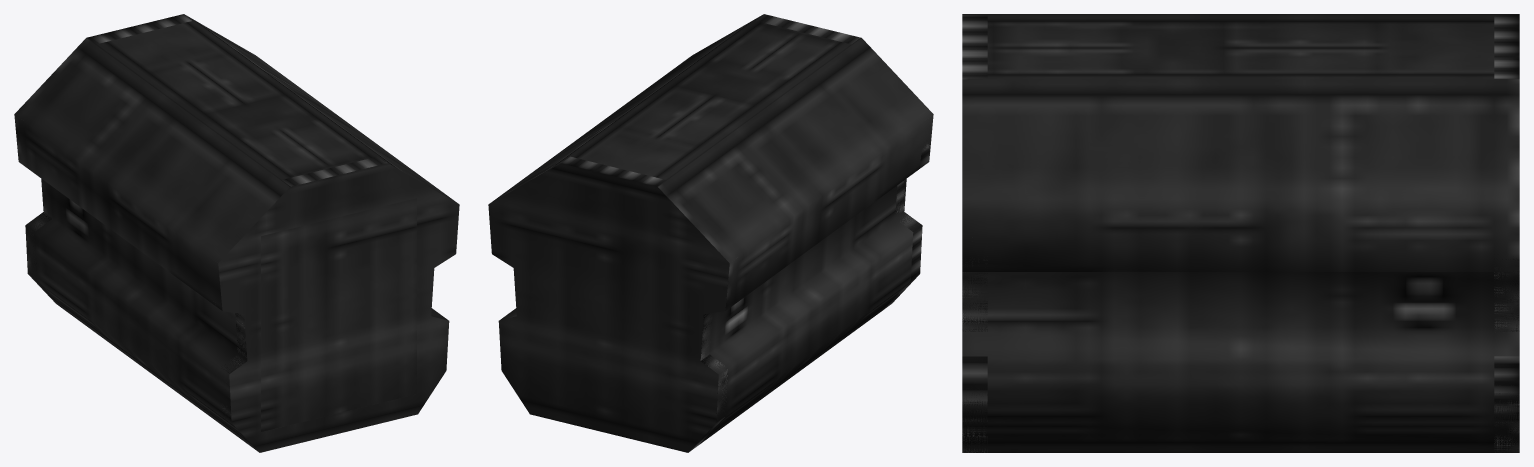
File: utl15b2.obj
3 renders of one model, left to right at view 1: azimuth 30°, elevation 25°; view 2: azimuth 150°, elevation 25°; view 3: azimuth 270°, elevation 25°, orthographic. The views are drawn at different scales.
Visible parts, largest first — view 1: frm-utl15b, frm-back_door, frm-front_door; view 2: frm-utl15b, frm-front_door, frm-back_door; view 3: frm-utl15b, frm-back_door, frm-front_door.
Boxes of the visible parts, box(x1,y1,x2,y2) form: frm-utl15b: box(14, 14, 459, 452); frm-back_door: box(221, 156, 416, 445); frm-front_door: box(14, 14, 191, 278); frm-utl15b: box(490, 14, 933, 450); frm-front_door: box(488, 156, 729, 452); frm-back_door: box(756, 14, 930, 309); frm-utl15b: box(962, 14, 1519, 452); frm-back_door: box(962, 14, 987, 452); frm-front_door: box(1494, 14, 1519, 452).
Size of the model in its own units: 7.05 by 7.22 by 10.31.
Materials: 1 (1 with a texture image).
